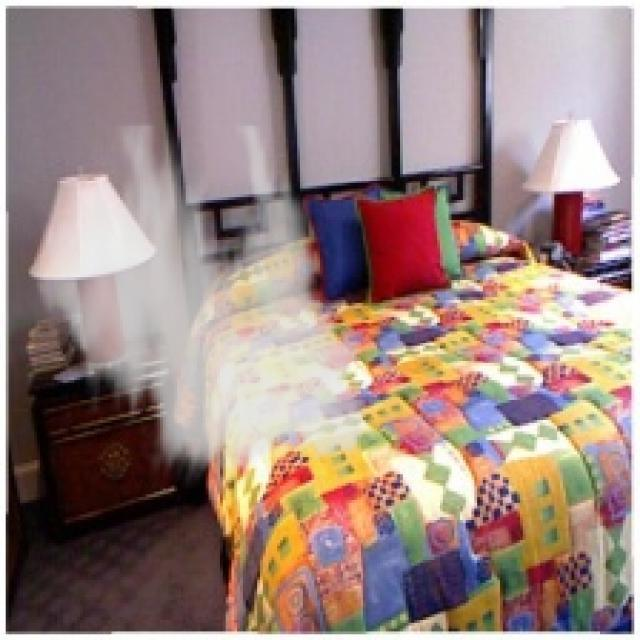Smoke: (26, 122, 386, 488)
